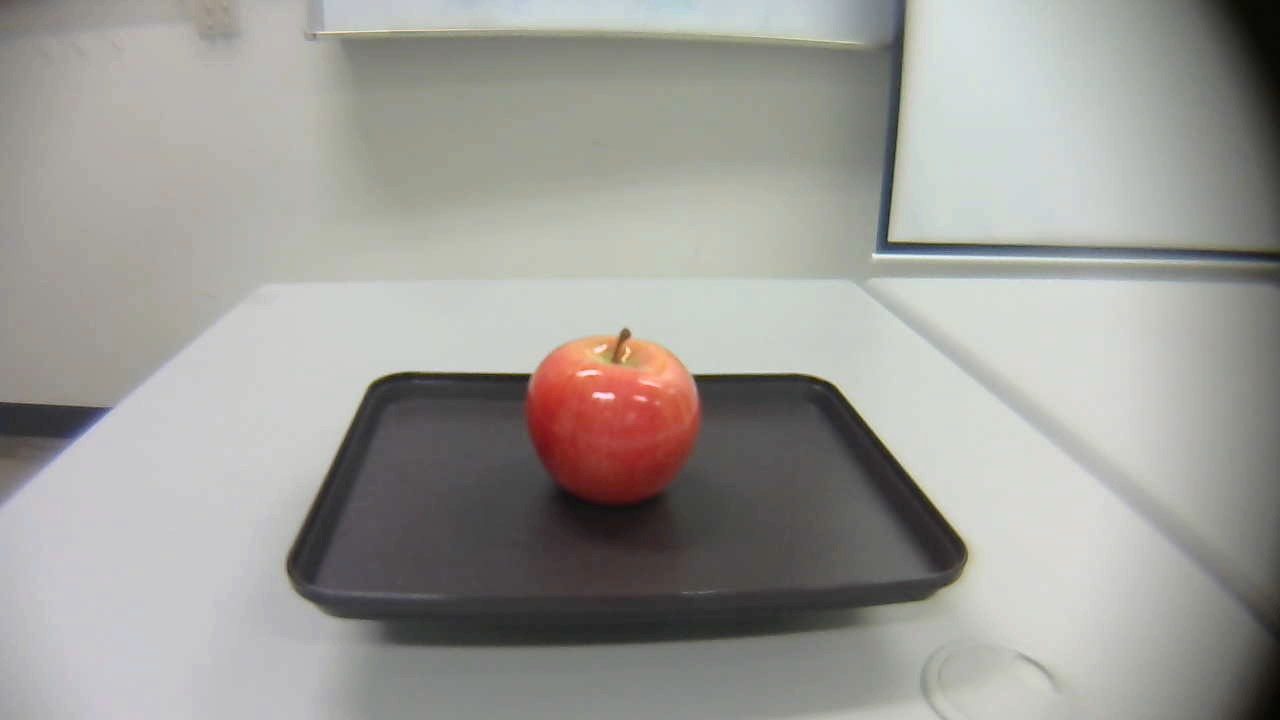red apple: (522, 324, 707, 509)
